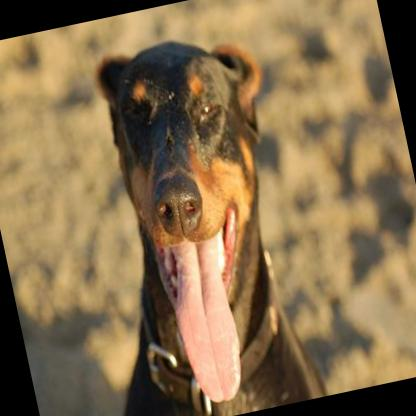Doberman: (40, 20, 327, 416)
